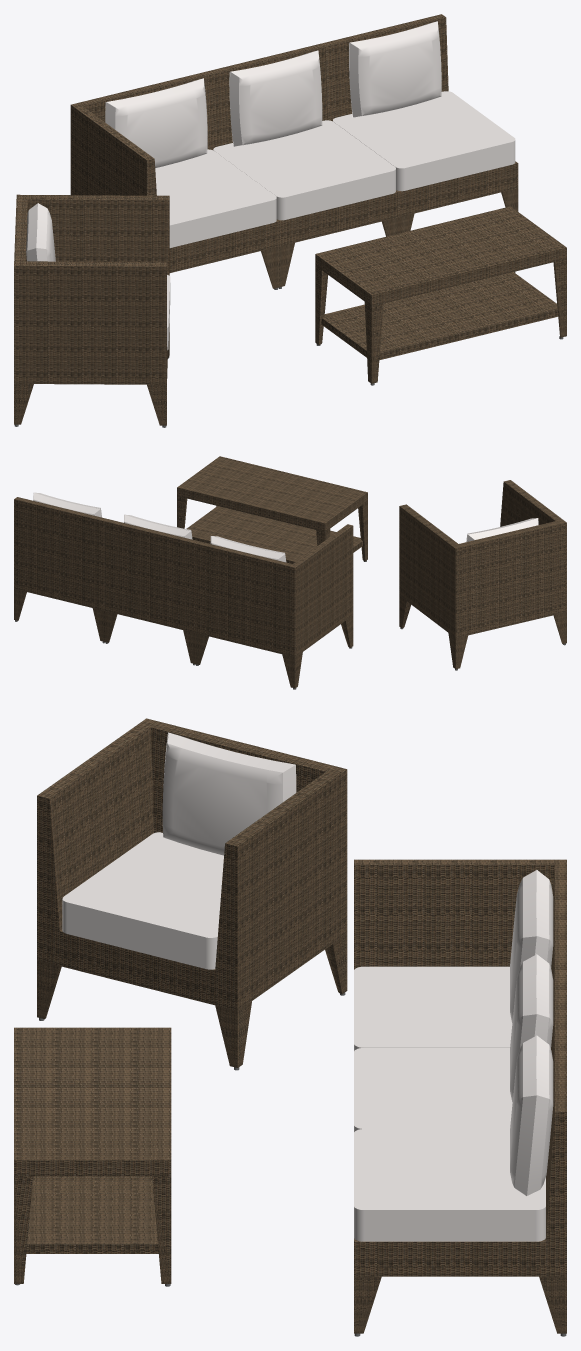
The model's file is tarina-set_nocolor.fbx.
The picture shows the model from 3 angles, top to bottom: view 1: azimuth 30°, elevation 25°; view 2: azimuth 150°, elevation 25°; view 3: azimuth 270°, elevation 25°; orthographic projection. The views are drawn at different scales.
Parts seen in each view (by area): view 1: tarrina-set; view 2: tarrina-set; view 3: tarrina-set.
Part boxes in pixels (<box>): tarrina-set: <box>14,14,566,427</box>; tarrina-set: <box>14,456,566,689</box>; tarrina-set: <box>14,718,566,1336</box>.
Size of the model in its own units: 267 by 73.03 by 158.
Materials: 3 (1 with a texture image).
